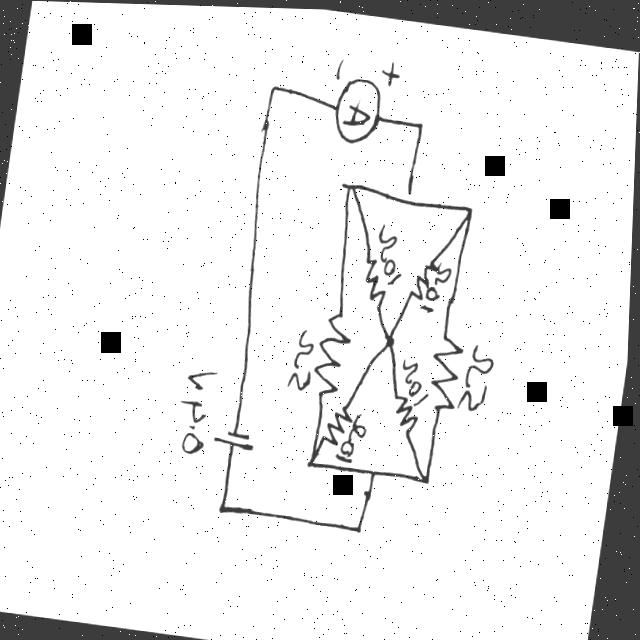junction: (352, 516, 370, 535), (342, 174, 360, 193), (461, 197, 479, 216), (267, 76, 285, 95), (384, 330, 402, 348), (216, 498, 234, 516), (306, 451, 323, 470), (412, 113, 429, 132), (420, 467, 437, 485), (401, 188, 418, 206), (367, 459, 384, 477)
resistor: (314, 306, 358, 395), (431, 329, 468, 412), (322, 397, 361, 445), (361, 251, 393, 309), (391, 384, 426, 435), (408, 251, 442, 299)
source: (212, 420, 261, 453)
text: (176, 363, 224, 455), (459, 338, 499, 410), (286, 322, 321, 393), (335, 407, 377, 461), (374, 214, 405, 287), (399, 349, 434, 408), (420, 257, 457, 312)
